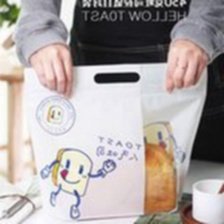snack: (17, 55, 213, 223)
